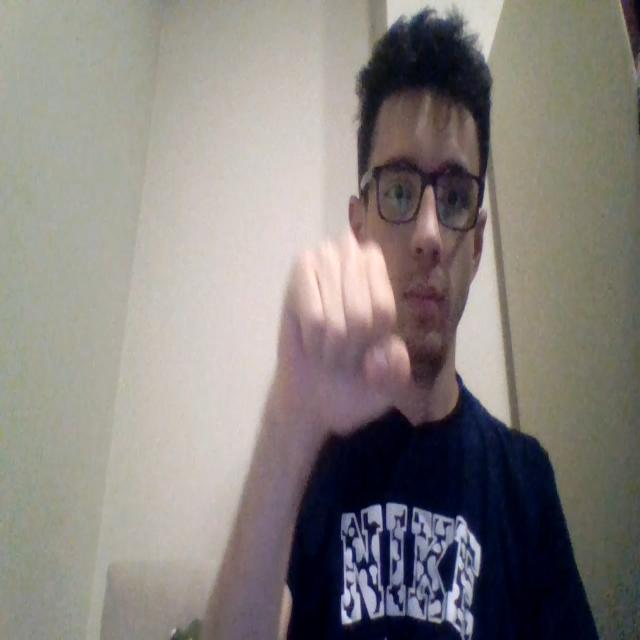yes: (273, 226, 416, 437)
